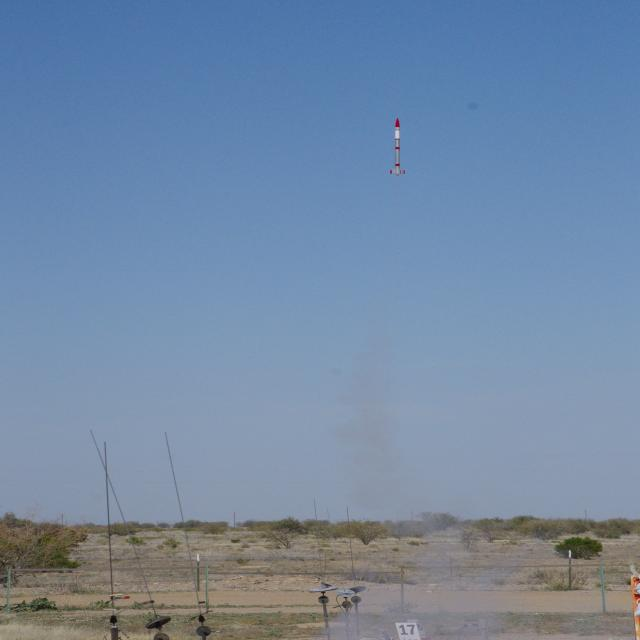Rocket: (389, 117, 406, 176)
